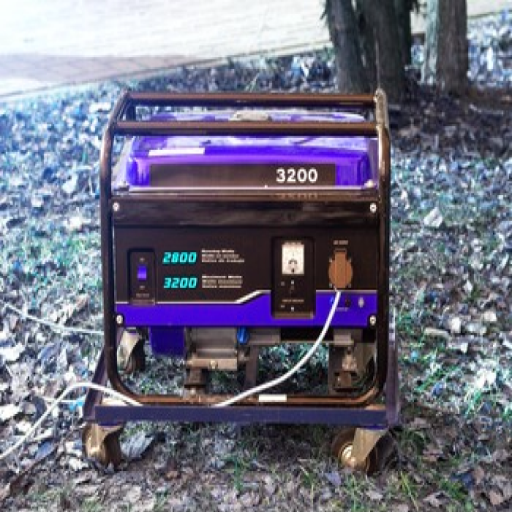portable_generator: (100, 88, 393, 408)
